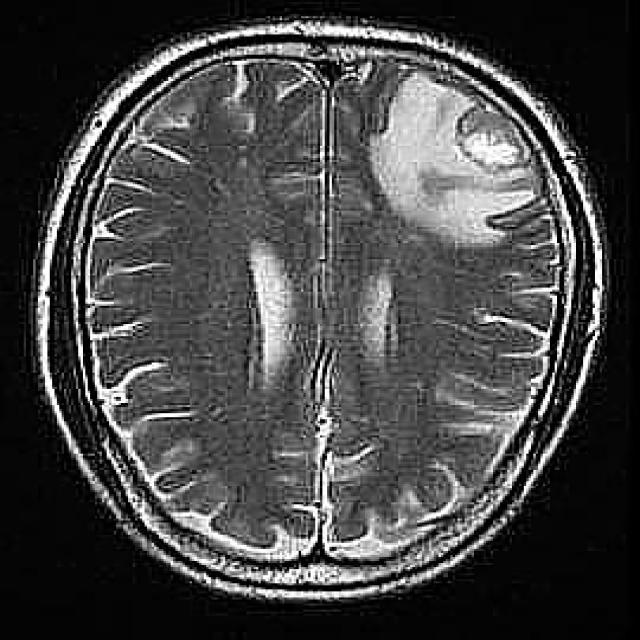Tumor-Cell: (387, 72, 535, 240)
